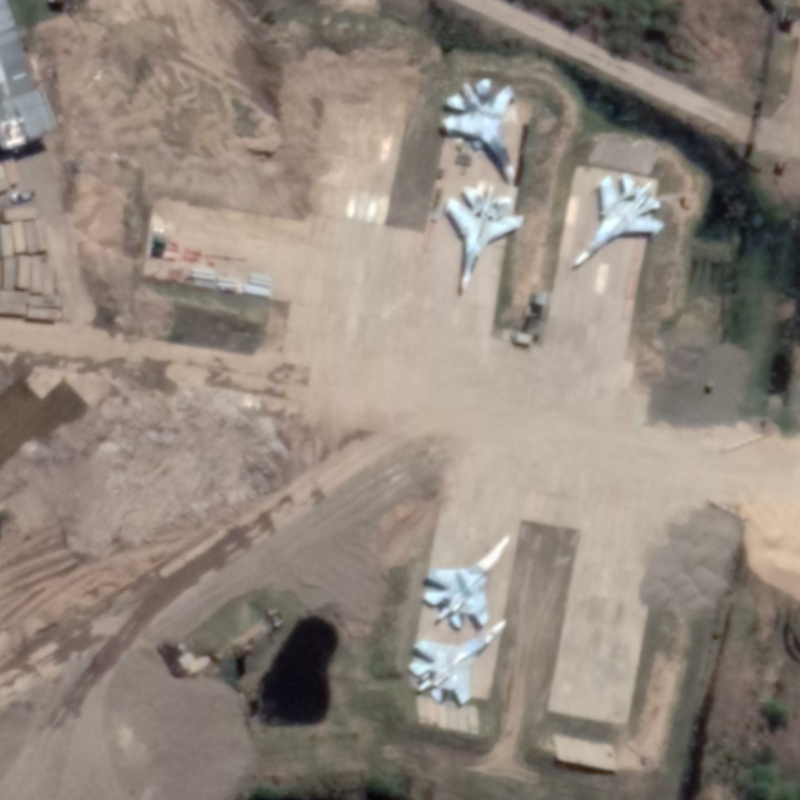A1: (440, 179, 528, 296), (567, 170, 667, 272), (403, 616, 512, 708), (417, 533, 513, 631), (440, 76, 518, 180)
